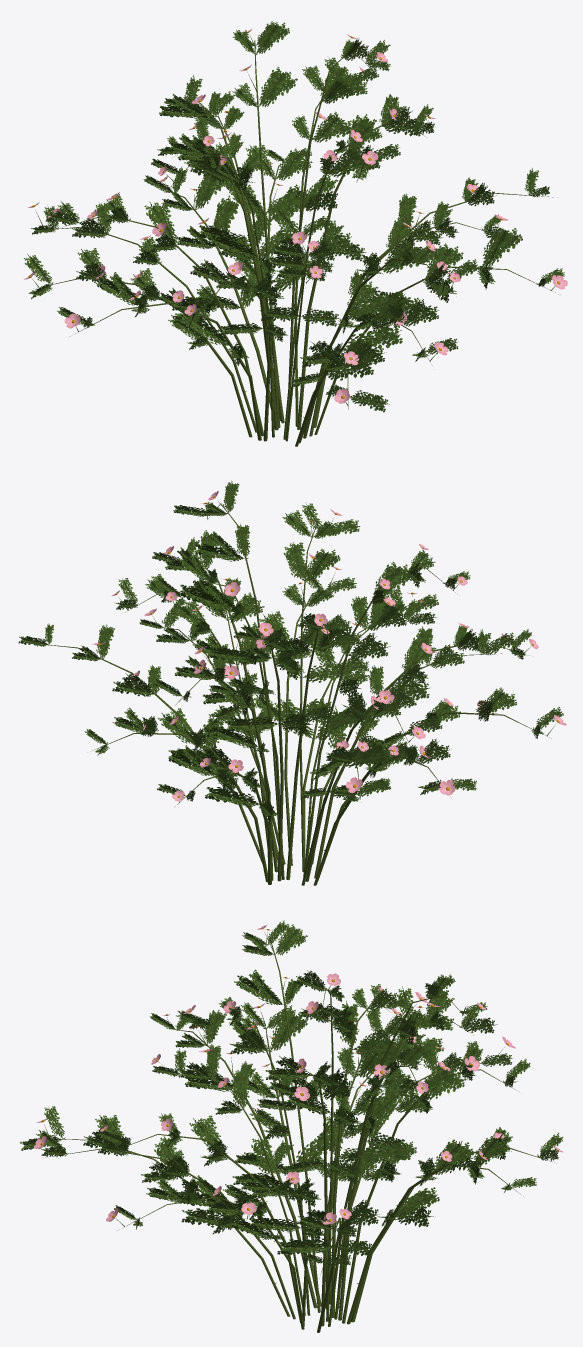
Rendered from dog-rose.glb.
3 views of the same model, one above another, from view 1: azimuth 30°, elevation 25°; view 2: azimuth 150°, elevation 25°; view 3: azimuth 270°, elevation 25° (orthographic). The views are drawn at different scales.
Parts seen in each view (by area): view 1: Dog Rose; view 2: Dog Rose; view 3: Dog Rose.
Part boxes in pixels (left/top/right/bottom): Dog Rose: left=24, top=21, right=567, bottom=446; Dog Rose: left=18, top=480, right=566, bottom=885; Dog Rose: left=20, top=920, right=563, bottom=1332.
Bounding box in the file's own units: 2.79 × 1.96 × 2.56.
4 materials, 4 textured.
